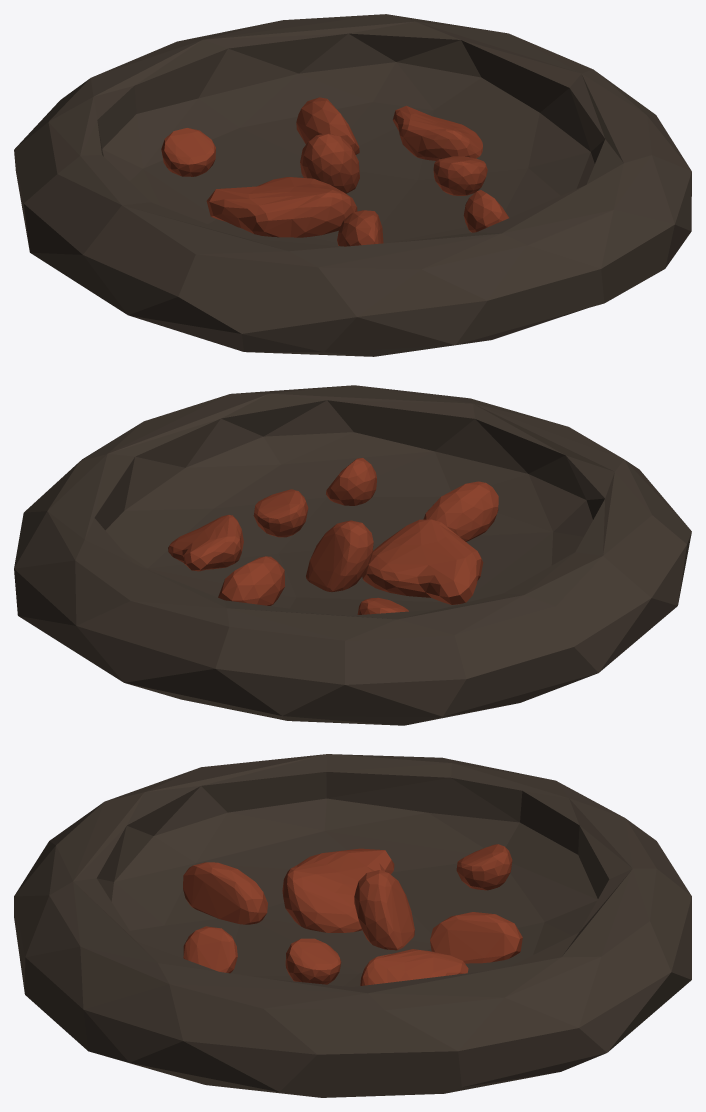
Rendered from plate of agate.glb.
3 views of the same model, one above another, from view 1: azimuth 30°, elevation 25°; view 2: azimuth 150°, elevation 25°; view 3: azimuth 270°, elevation 25° (orthographic). The views are drawn at different scales.
Parts seen in each view (by area): view 1: Cube.003, Cube.006, Cube.002, Cube, Cube.004, Cube.008, Cube.001, Cube.005, Cube.007; view 2: Cube.003, Cube.006, Cube, Cube.002, Cube.005, Cube.008, Cube.001, Cube.007, Cube.004; view 3: Cube.003, Cube.006, Cube.005, Cube.008, Cube, Cube.002, Cube.001, Cube.004, Cube.007.
Part boxes in pixels (x1,y1,x2,y2): Cube.003: (14, 14, 691, 356); Cube.006: (206, 177, 357, 237); Cube.002: (393, 105, 482, 160); Cube: (300, 133, 359, 193); Cube.004: (161, 128, 215, 176); Cube.008: (296, 97, 359, 154); Cube.001: (433, 156, 487, 195); Cube.005: (337, 210, 383, 246); Cube.007: (463, 190, 508, 232); Cube.003: (14, 385, 691, 725); Cube.006: (362, 519, 483, 604); Cube: (306, 520, 373, 591); Cube.002: (168, 514, 243, 571); Cube.005: (423, 481, 498, 541); Cube.008: (218, 556, 285, 605); Cube.001: (253, 489, 308, 537); Cube.007: (326, 458, 376, 505); Cube.004: (357, 597, 408, 614); Cube.003: (14, 754, 691, 1097); Cube.006: (282, 848, 394, 932); Cube.005: (183, 862, 267, 924); Cube.008: (430, 912, 522, 963); Cube: (354, 870, 414, 950); Cube.002: (360, 949, 468, 985); Cube.001: (285, 938, 341, 984); Cube.004: (456, 844, 512, 890); Cube.007: (183, 926, 237, 973).
Bounding box in the file's own units: 0.286 × 0.0551 × 0.286.
